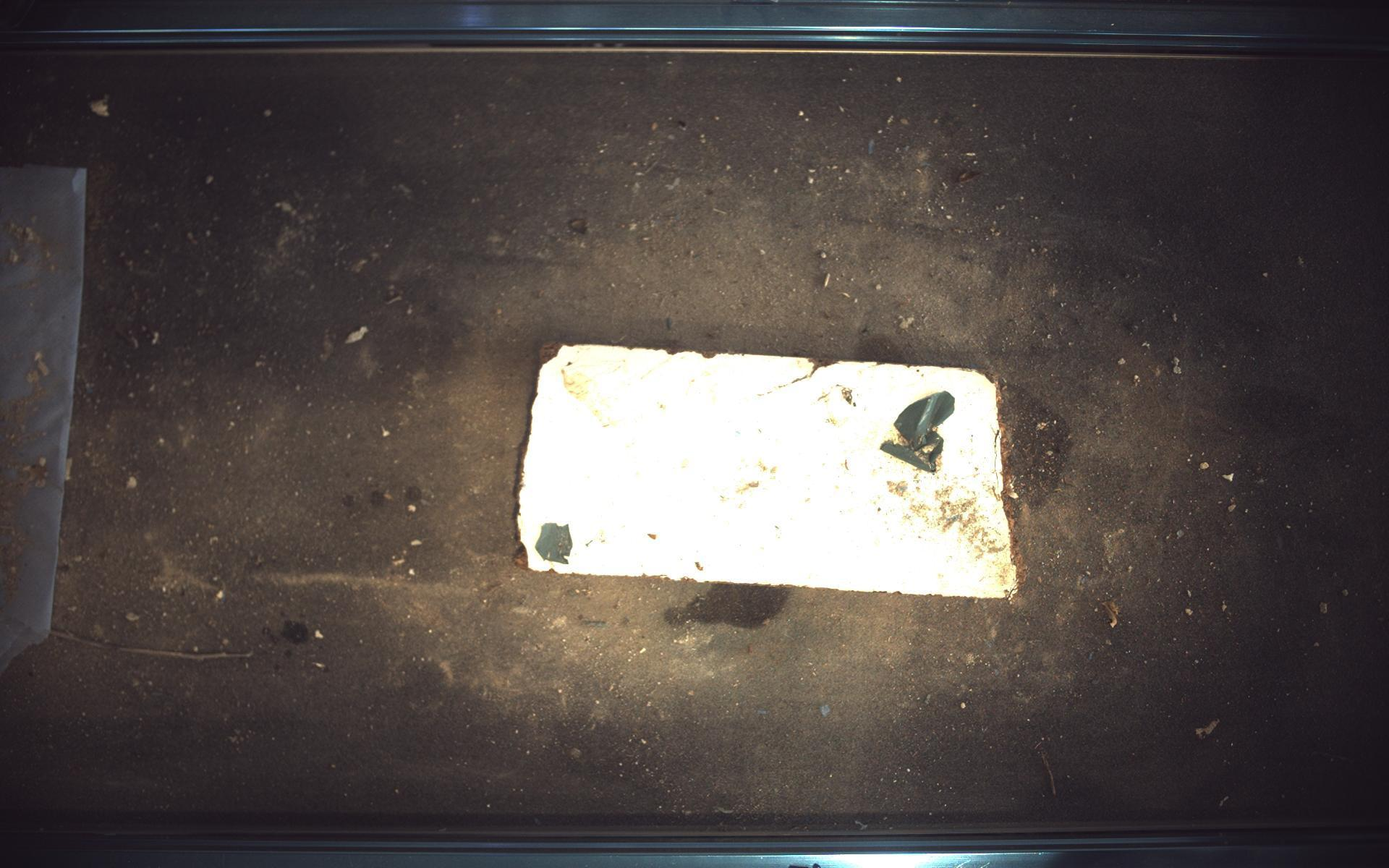wood: (519, 344, 1019, 599)
